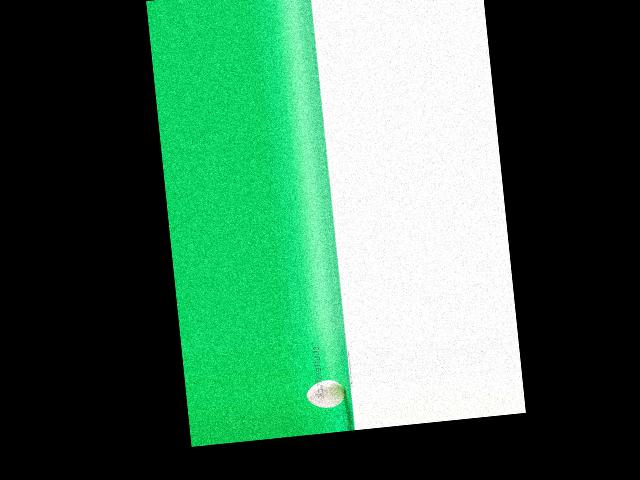egg: (305, 378, 347, 410)
